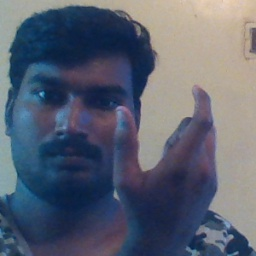U: (110, 80, 227, 227)
